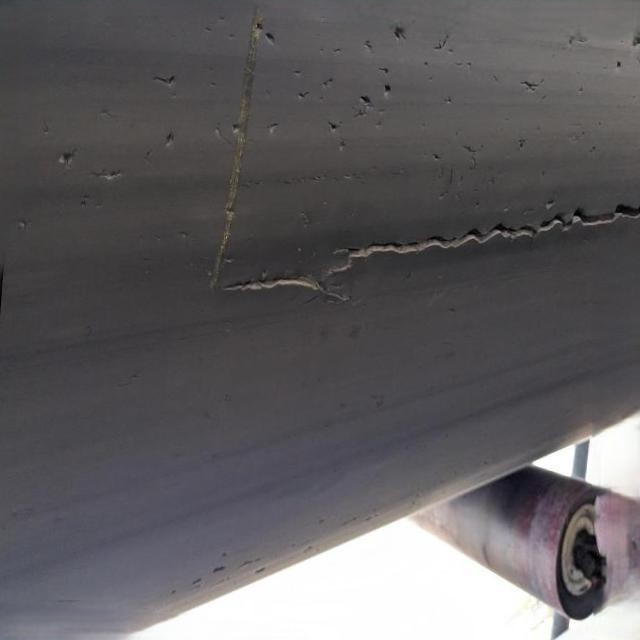Puncture: (52, 148, 79, 168), (355, 88, 373, 114), (294, 0, 327, 14), (244, 15, 264, 35), (161, 128, 179, 150), (322, 117, 342, 135), (378, 80, 397, 96), (261, 28, 277, 44), (612, 57, 627, 73), (544, 197, 556, 210)
Tear: (221, 188, 639, 296), (190, 0, 266, 299), (150, 64, 180, 90), (92, 163, 128, 184), (520, 74, 546, 100), (332, 0, 366, 18), (625, 32, 640, 48)
